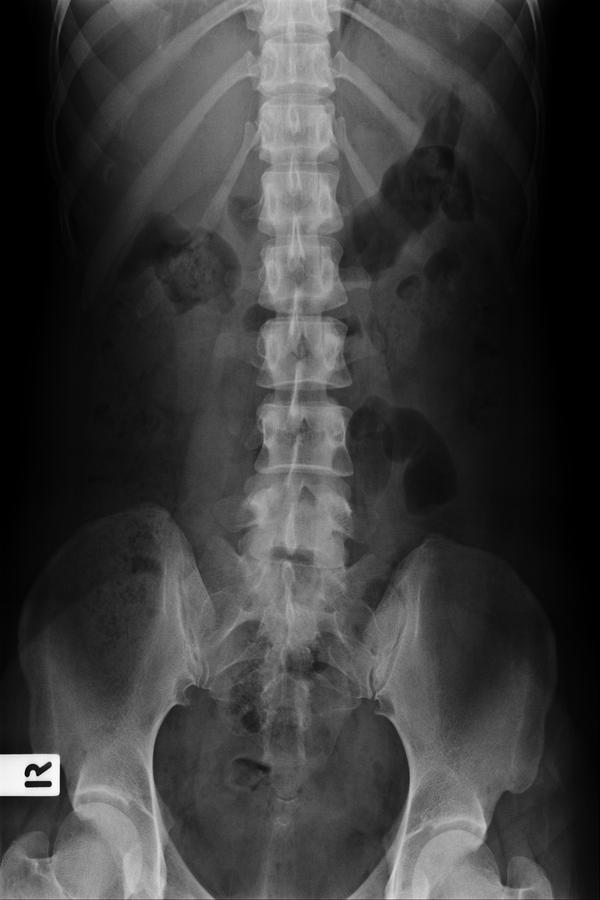lumbar scoliosis: (234, 8, 365, 696)
